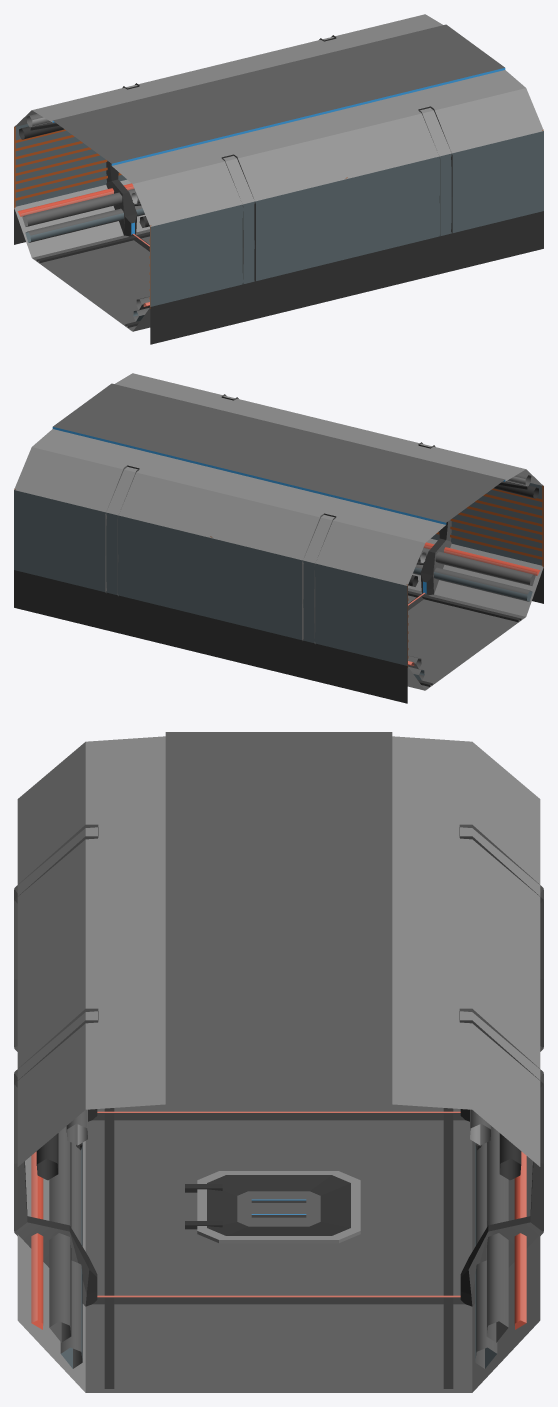
The model's file is Straight_SciFi_Tunnel.fbx.
3 renders of one model, top to bottom at view 1: azimuth 30°, elevation 25°; view 2: azimuth 150°, elevation 25°; view 3: azimuth 270°, elevation 25°, orthographic. The views are drawn at different scales.
Visible parts, largest first — view 1: Straight_SciFi_Tunnel_South, Straight_SciFi_Tunnel_Ceiling, Straight_SciFi_Tunnel, Straight_SciFi_Tunnel_North; view 2: Straight_SciFi_Tunnel_North, Straight_SciFi_Tunnel_Ceiling, Straight_SciFi_Tunnel, Straight_SciFi_Tunnel_South; view 3: Straight_SciFi_Tunnel_Ceiling, Straight_SciFi_Tunnel, Straight_SciFi_Tunnel_North, Straight_SciFi_Tunnel_South.
Boxes of the visible parts, left/top/right/bottom form: Straight_SciFi_Tunnel_South: left=132, top=88, right=543, bottom=308; Straight_SciFi_Tunnel_Ceiling: left=32, top=14, right=525, bottom=183; Straight_SciFi_Tunnel: left=14, top=179, right=543, bottom=344; Straight_SciFi_Tunnel_North: left=14, top=35, right=336, bottom=235; Straight_SciFi_Tunnel_North: left=14, top=447, right=425, bottom=667; Straight_SciFi_Tunnel_Ceiling: left=32, top=373, right=525, bottom=542; Straight_SciFi_Tunnel: left=14, top=538, right=543, bottom=703; Straight_SciFi_Tunnel_South: left=221, top=394, right=543, bottom=594; Straight_SciFi_Tunnel_Ceiling: left=85, top=732, right=472, bottom=1109; Straight_SciFi_Tunnel: left=17, top=1100, right=540, bottom=1392; Straight_SciFi_Tunnel_North: left=459, top=742, right=543, bottom=1306; Straight_SciFi_Tunnel_South: left=14, top=742, right=98, bottom=1306.
Size of the model in its own units: 1000 by 372 by 608.
